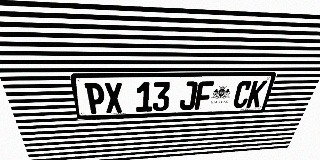1: (136, 82, 153, 112)
3: (153, 82, 170, 111)
C: (232, 81, 253, 108)
F: (194, 81, 214, 110)
J: (179, 81, 198, 110)
K: (246, 80, 268, 108)
P: (84, 83, 106, 114)
X: (104, 82, 123, 113)
